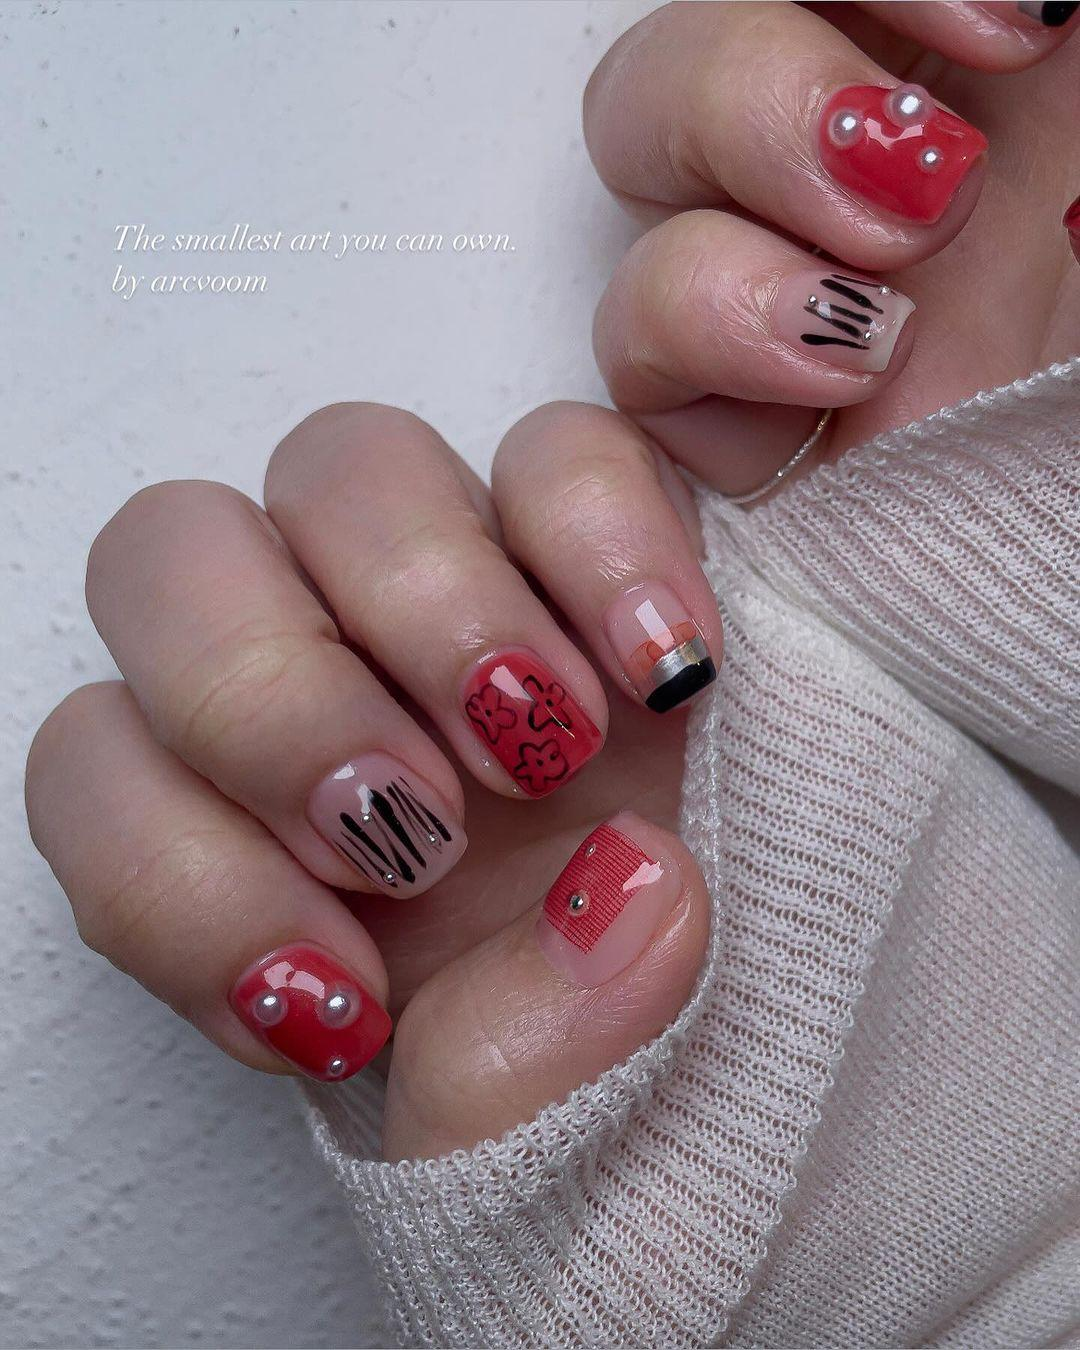nail: (534, 812, 682, 990), (816, 80, 989, 226), (303, 749, 468, 901), (227, 940, 393, 1084), (458, 645, 605, 800), (600, 577, 717, 715), (773, 267, 916, 375)
